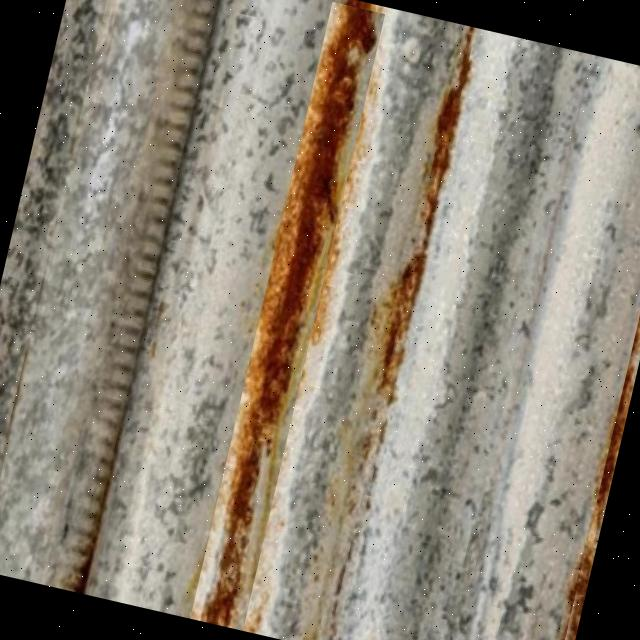Corrosion: (0, 0, 640, 640), (185, 0, 386, 629), (536, 74, 640, 640)
